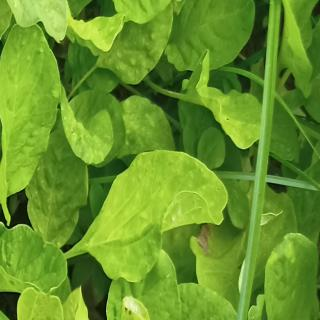karat_putih: (110, 14, 175, 86), (119, 94, 174, 166), (132, 0, 203, 15)
